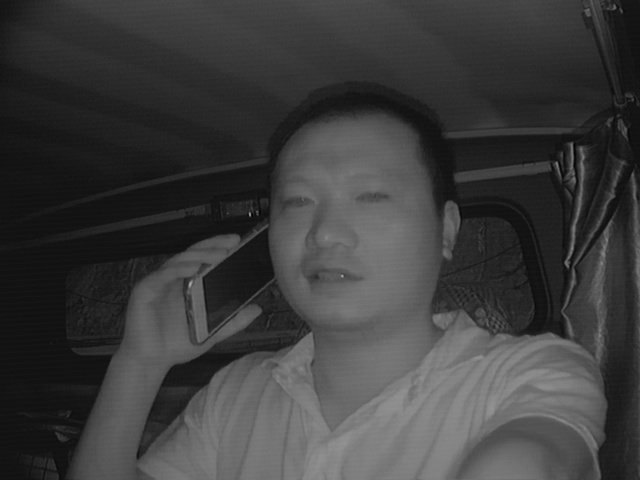hand: (127, 234, 257, 360)
